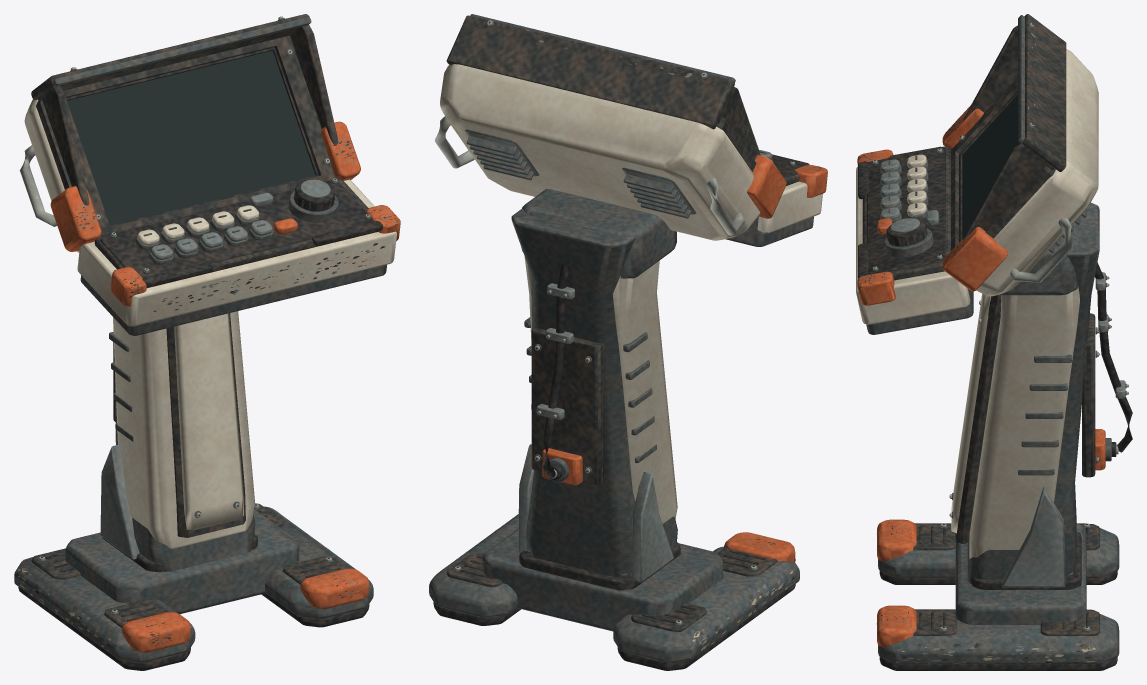
The model's file is site_plan_terminal.glb.
3 views of the same model, side by side, from view 1: azimuth 30°, elevation 25°; view 2: azimuth 150°, elevation 25°; view 3: azimuth 270°, elevation 25° (orthographic). The views are drawn at different scales.
Visible parts, largest first — view 1: SitePlanTerminal_rover_white, Screen, SitePlanTerminal_graphite, Feet_dark_alloy, SitePlanTerminal_dark_alloy, SitePlanTerminal_black_rubber, SitePlanTerminal_orange, SitePlanTerminal_alloy, Feet_orange, Feet_black_rubber, Feet_graphite, SitePlanTerminal_satin_steel; view 2: SitePlanTerminal_rover_white, SitePlanTerminal_dark_alloy, SitePlanTerminal_graphite, Feet_dark_alloy, SitePlanTerminal_alloy, Feet_black_rubber, SitePlanTerminal_orange, Feet_graphite, SitePlanTerminal_black_rubber, SitePlanTerminal_satin_steel, Feet_orange; view 3: SitePlanTerminal_rover_white, SitePlanTerminal_graphite, Feet_dark_alloy, SitePlanTerminal_dark_alloy, SitePlanTerminal_black_rubber, SitePlanTerminal_alloy, SitePlanTerminal_orange, Feet_black_rubber, Screen, Feet_graphite, Feet_orange, SitePlanTerminal_satin_steel (+1 smaller).
Part boxes in pixels (left/top/right/bottom): SitePlanTerminal_rover_white: left=24, top=99, right=396, bottom=548; Screen: left=67, top=50, right=315, bottom=225; SitePlanTerminal_graphite: left=31, top=14, right=398, bottom=537; Feet_dark_alloy: left=14, top=506, right=373, bottom=662; SitePlanTerminal_dark_alloy: left=53, top=17, right=386, bottom=571; SitePlanTerminal_black_rubber: left=66, top=47, right=382, bottom=287; SitePlanTerminal_orange: left=50, top=121, right=400, bottom=306; SitePlanTerminal_alloy: left=77, top=27, right=399, bottom=559; Feet_orange: left=122, top=568, right=369, bottom=652; Feet_black_rubber: left=18, top=510, right=369, bottom=670; Feet_graphite: left=17, top=503, right=360, bottom=647; SitePlanTerminal_satin_steel: left=19, top=16, right=370, bottom=517; SitePlanTerminal_rover_white: left=440, top=64, right=822, bottom=523; SitePlanTerminal_dark_alloy: left=466, top=14, right=813, bottom=577; SitePlanTerminal_graphite: left=446, top=15, right=826, bottom=484; Feet_dark_alloy: left=429, top=514, right=799, bottom=662; SitePlanTerminal_alloy: left=465, top=24, right=817, bottom=582; Feet_black_rubber: left=433, top=542, right=795, bottom=670; SitePlanTerminal_orange: left=542, top=155, right=827, bottom=485; Feet_graphite: left=447, top=530, right=798, bottom=656; SitePlanTerminal_black_rubber: left=542, top=154, right=809, bottom=480; SitePlanTerminal_satin_steel: left=434, top=20, right=794, bottom=478; Feet_orange: left=724, top=532, right=795, bottom=561; SitePlanTerminal_rover_white: left=856, top=49, right=1098, bottom=559; SitePlanTerminal_graphite: left=857, top=14, right=1128, bottom=543; Feet_dark_alloy: left=878, top=523, right=1119, bottom=663; SitePlanTerminal_dark_alloy: left=866, top=15, right=1126, bottom=583; SitePlanTerminal_black_rubber: left=858, top=91, right=1132, bottom=456; SitePlanTerminal_alloy: left=857, top=33, right=1125, bottom=587; SitePlanTerminal_orange: left=857, top=105, right=1105, bottom=470; Feet_black_rubber: left=879, top=526, right=1117, bottom=670; Screen: left=962, top=95, right=1020, bottom=238; Feet_graphite: left=876, top=523, right=1099, bottom=663; Feet_orange: left=877, top=519, right=916, bottom=647; SitePlanTerminal_satin_steel: left=873, top=23, right=1128, bottom=517.
Size of the model in its own units: 0.601 by 1.12 by 0.5176.
9 materials, 8 textured.
